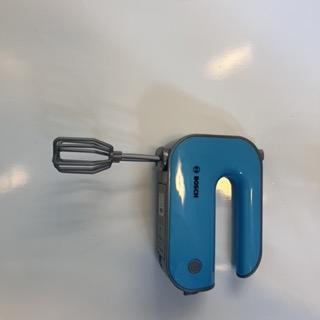mixer: (52, 133, 263, 296)
